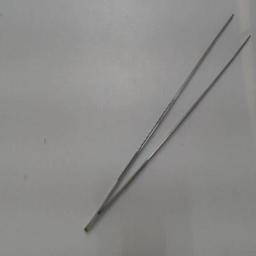DeBakey Dissector: (72, 12, 252, 244)
